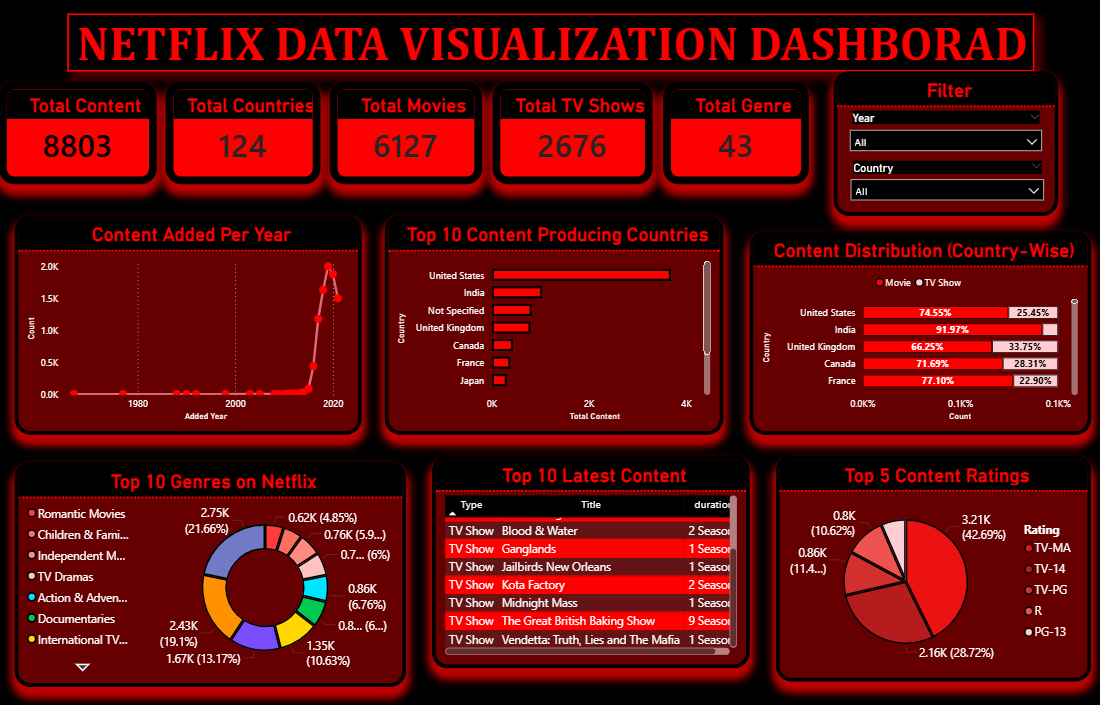

The page's visual inventory and layout, read from the dashboard file:
{"tool":"powerbi","page":{"name":"Page 3","canvas":[1400,900],"ordinal":0},"visuals":[{"type":"textbox","title":"NETFLIX DATA VISUALIZATION DASHBORAD","box":[86,18,1228,74],"z":0},{"type":"cardVisual","title":"Total Content","fields":{"Data":["clean_netflix_dataset.Content Count"]},"box":[0,105,200,130],"z":1000},{"type":"cardVisual","title":"Total Countries","fields":{"Data":["Count(country_table.country)"]},"box":[211.7,105,196.7,130],"z":2000},{"type":"cardVisual","title":"Total Movies","fields":{"Data":["clean_netflix_dataset.Total Movies"]},"box":[420,105,193.3,130],"z":3000},{"type":"cardVisual","title":"Total TV Shows","fields":{"Data":["clean_netflix_dataset.Total Tv Shows"]},"box":[626.7,105,203.3,130],"z":4000},{"type":"cardVisual","title":"Total Genre","fields":{"Data":["Count(Genre_table.listed_in)"]},"box":[843.3,105,185,130],"z":5000},{"type":"lineChart","title":"Content Added Per Year","fields":{"Category":["clean_netflix_dataset.year_added"],"Y":["clean_netflix_dataset.Content Count"]},"box":[20,275,440,278.3],"z":6000},{"type":"clusteredBarChart","title":"Top 10 Content Producing Countries","fields":{"Category":["country_table.country"],"Y":["CountNonNull(country_table.show_id)"]},"box":[490,275,430,278.3],"z":7000},{"type":"pieChart","title":"Top 5 Content Ratings","fields":{"Category":["clean_netflix_dataset.rating"],"Y":["CountNonNull(clean_netflix_dataset.rating)"]},"box":[986.7,580,400,286.7],"z":8000},{"type":"hundredPercentStackedBarChart","title":"Content Distribution (Country-Wise) ","fields":{"Category":["country_table.country"],"Y":["CountNonNull(country_table.show_id)"],"Series":["clean_netflix_dataset.type"]},"box":[953.3,295,433.3,258.3],"z":9000},{"type":"donutChart","title":"Top 10 Genres on Netflix","fields":{"Category":["Genre_table.listed_in"],"Y":["Count(Genre_table.show_id)"]},"box":[20,588.3,496.7,285],"z":10000},{"type":"tableEx","title":"Top 10 Latest Content","fields":{"Values":["clean_netflix_dataset.type","clean_netflix_dataset.title","clean_netflix_dataset.duration"]},"box":[550,580,403.3,270],"z":11000},{"type":"slicer","title":"Filter","fields":{"Values":["clean_netflix_dataset.year_added"]},"box":[1060,91.7,285,183.3],"z":12000},{"type":"slicer","fields":{"Values":["country_table.country"]},"box":[1071.7,200,265,70],"z":12001}]}

Visuals, with their boxes in screenshot pixels (x1, y1, x2, y2), scaled from the page's 1400x900 canvas onto the 1100x705 screenshot:
"NETFLIX DATA VISUALIZATION DASHBORAD" textbox: [68, 14, 1032, 72]
"Total Content" cardVisual: [0, 82, 157, 184]
"Total Countries" cardVisual: [166, 82, 321, 184]
"Total Movies" cardVisual: [330, 82, 482, 184]
"Total TV Shows" cardVisual: [492, 82, 652, 184]
"Total Genre" cardVisual: [663, 82, 808, 184]
"Content Added Per Year" lineChart: [16, 215, 361, 433]
"Top 10 Content Producing Countries" clusteredBarChart: [385, 215, 723, 433]
"Top 5 Content Ratings" pieChart: [775, 454, 1090, 679]
"Content Distribution (Country-Wise) " hundredPercentStackedBarChart: [749, 231, 1089, 433]
"Top 10 Genres on Netflix" donutChart: [16, 461, 406, 684]
"Top 10 Latest Content" tableEx: [432, 454, 749, 666]
"Filter" slicer: [833, 72, 1057, 215]
slicer - country_table.country: [842, 157, 1050, 212]
